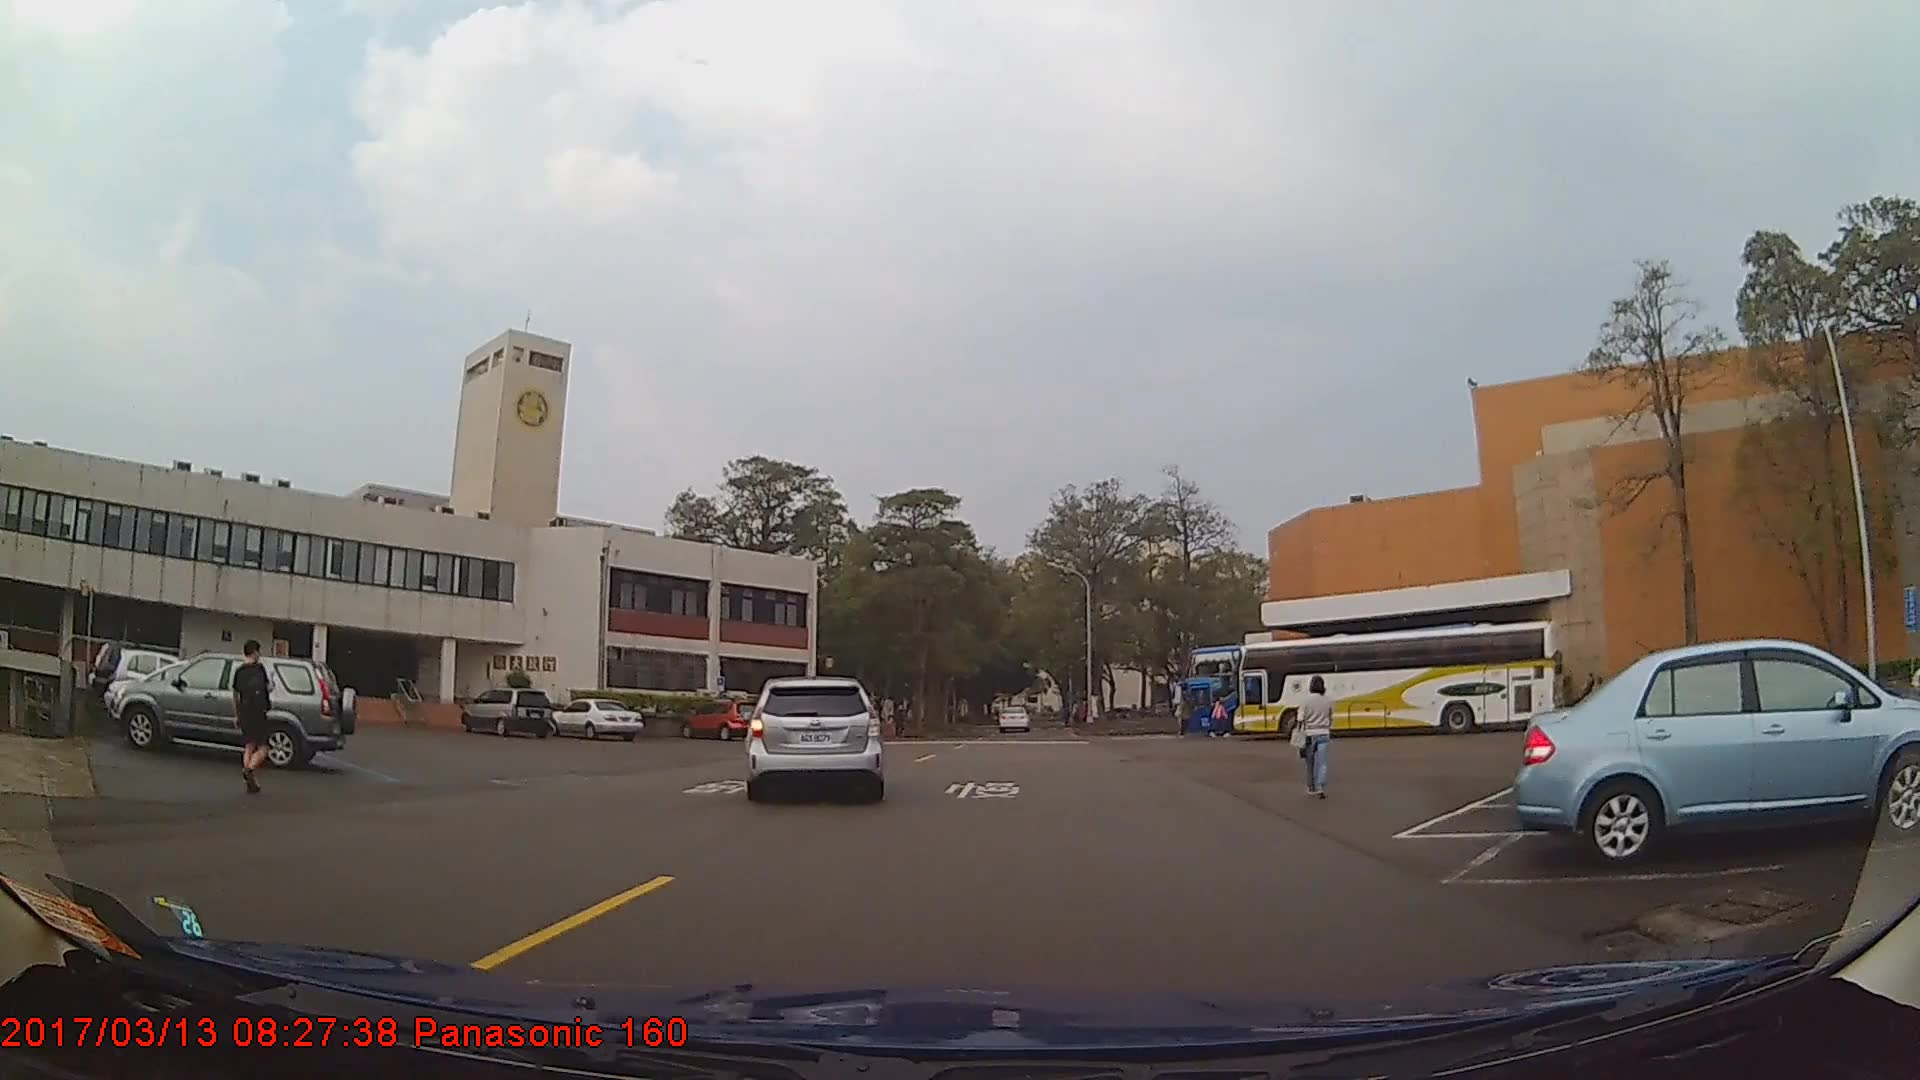pedestrian: (228, 640, 280, 796), (1292, 672, 1336, 796)
vehicle: (1518, 634, 1919, 870), (1233, 617, 1563, 741), (111, 654, 358, 769), (1181, 646, 1448, 737), (747, 673, 881, 801), (109, 647, 219, 714), (462, 686, 554, 739), (548, 695, 646, 741), (678, 698, 762, 740), (998, 706, 1030, 733)
